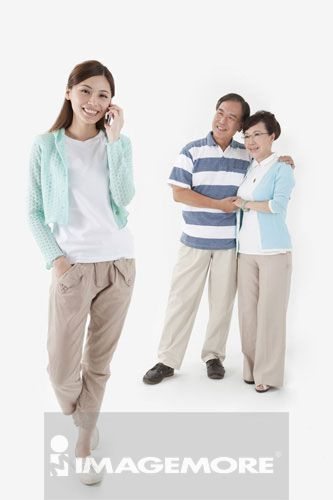talk: (73, 83, 126, 139)
